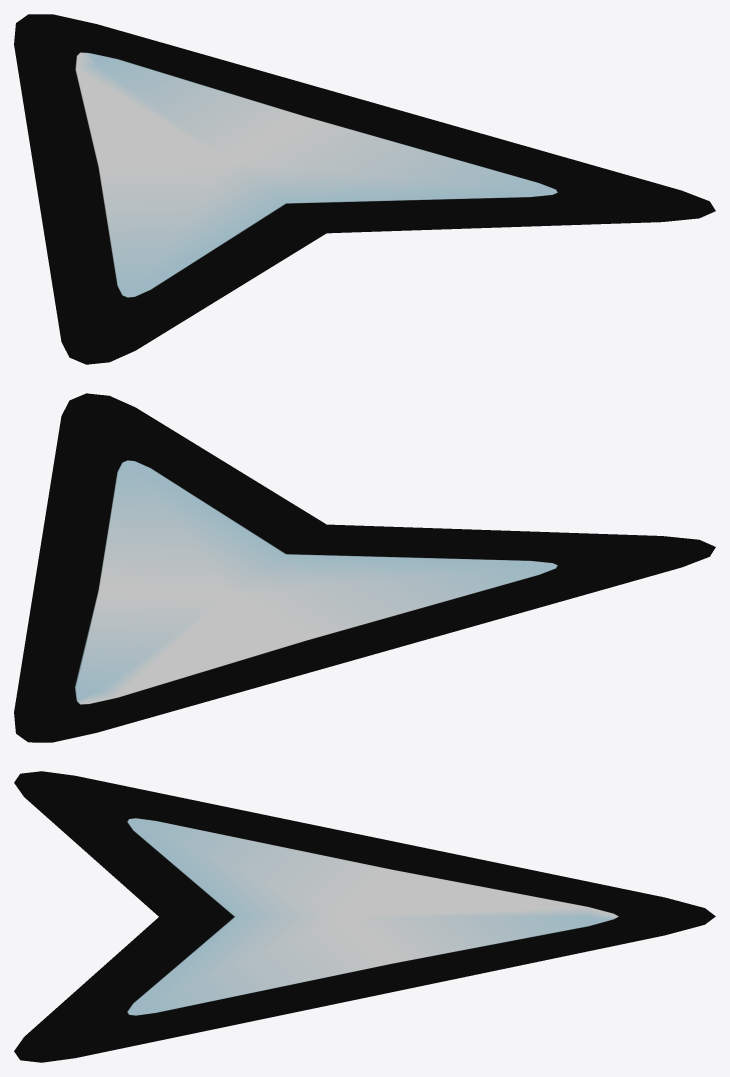
The model's file is mouseCursor.fbx.
3 renders of one model, top to bottom at view 1: azimuth 30°, elevation 25°; view 2: azimuth 150°, elevation 25°; view 3: azimuth 270°, elevation 25°, orthographic. The views are drawn at different scales.
Parts seen in each view (by area): view 1: Vert; view 2: Vert; view 3: Vert.
Part boxes in pixels (x1=…): Vert: x1=14, y1=14, x2=715, y2=364; Vert: x1=14, y1=393, x2=715, y2=742; Vert: x1=14, y1=771, x2=715, y2=1062.
Bounding box in the file's own units: 99.07 × 0.1001 × 101.
